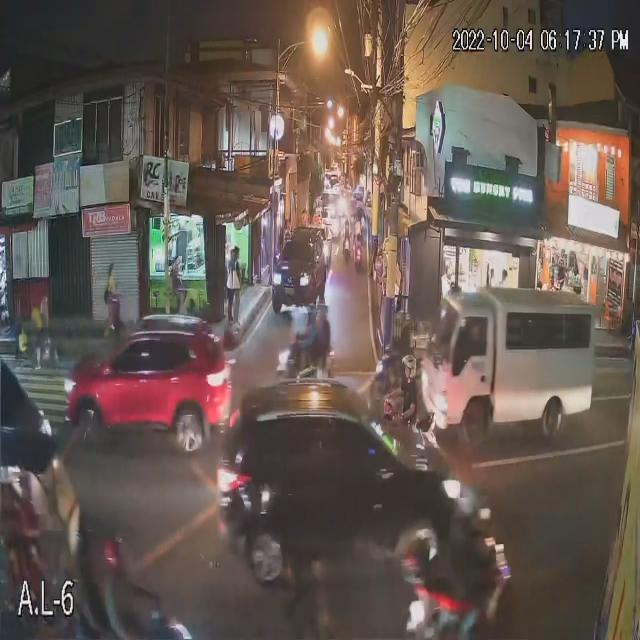helmet: (98, 540, 125, 566), (440, 494, 466, 520), (400, 352, 418, 370)
motorcycle: (394, 509, 514, 639), (369, 337, 423, 429), (275, 299, 334, 383), (48, 614, 203, 640)
rider: (424, 480, 503, 608), (376, 337, 417, 424), (297, 297, 331, 380), (93, 580, 134, 635)
